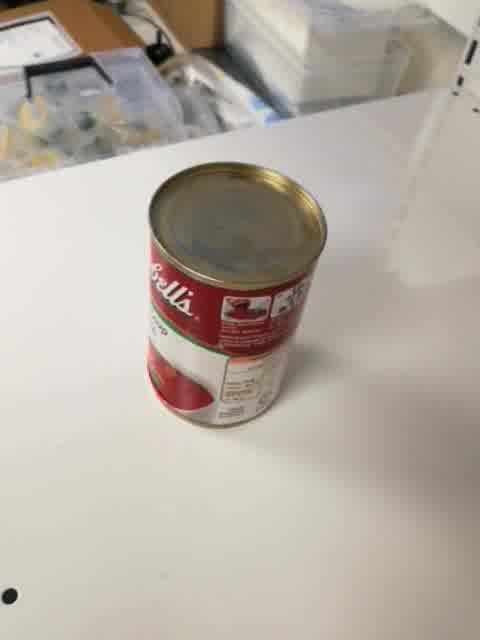tomatosoup: (146, 160, 331, 429)
